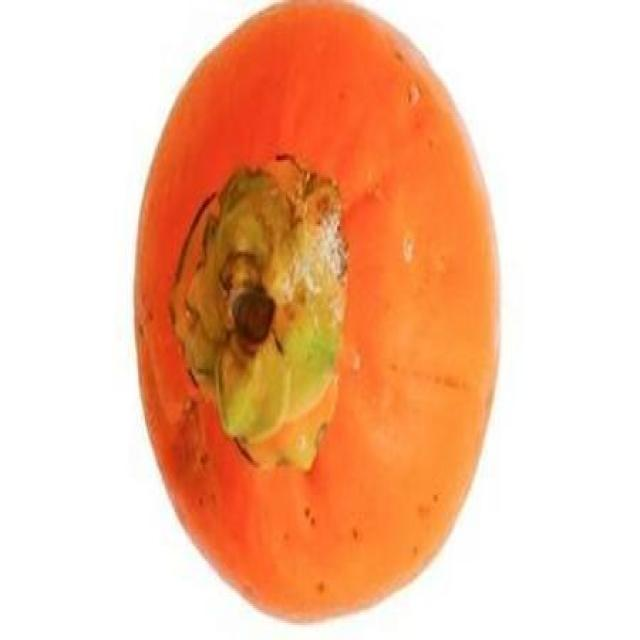good: (132, 4, 506, 627)
